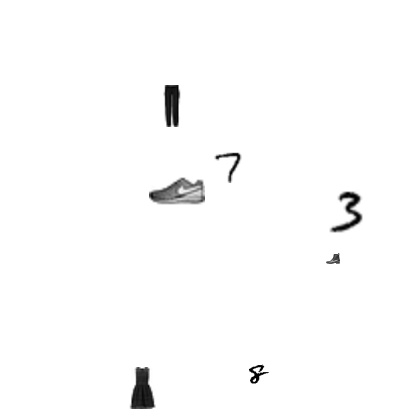3: (320, 182, 376, 238)
7: (210, 141, 252, 183)
8: (242, 359, 270, 387)
Ankle_boot: (326, 251, 340, 265)
Dress: (121, 367, 163, 409)
Sneaker: (149, 162, 205, 218)
Trouser: (150, 85, 192, 127)
